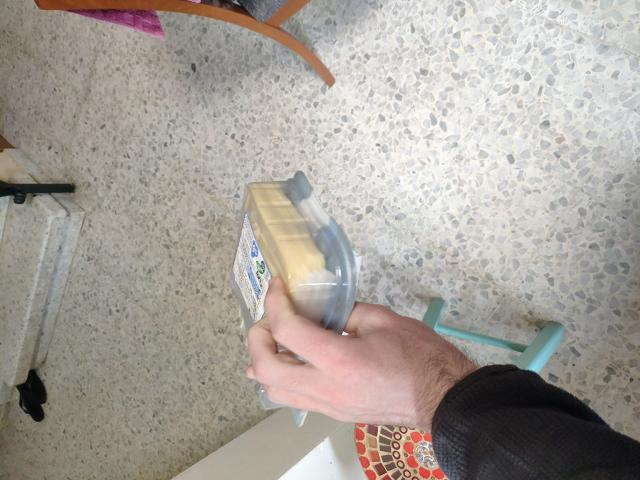cheese: (219, 165, 359, 392)
